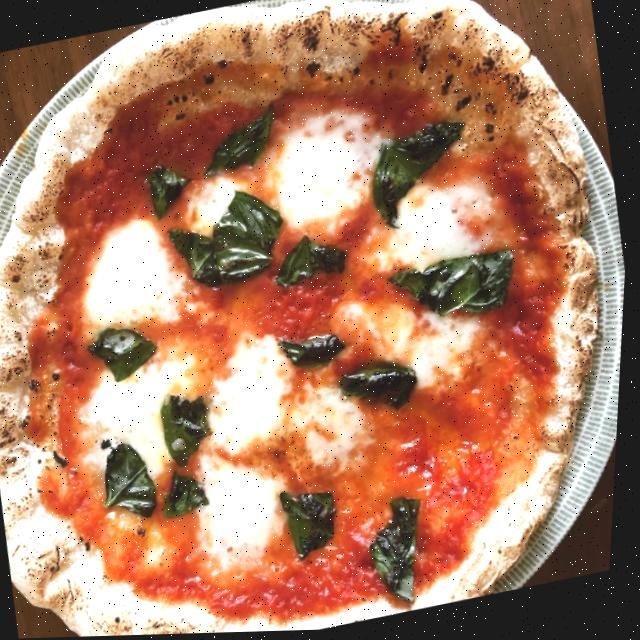basil: (356, 113, 487, 235), (385, 241, 530, 335), (361, 492, 448, 613), (202, 180, 300, 286), (197, 102, 286, 180), (96, 435, 170, 527), (83, 315, 170, 391), (277, 479, 354, 564), (337, 355, 429, 425), (158, 386, 225, 474), (273, 317, 360, 380), (272, 231, 354, 294), (167, 219, 230, 292), (142, 149, 200, 223), (164, 463, 220, 519)
pizza: (0, 0, 640, 640)
